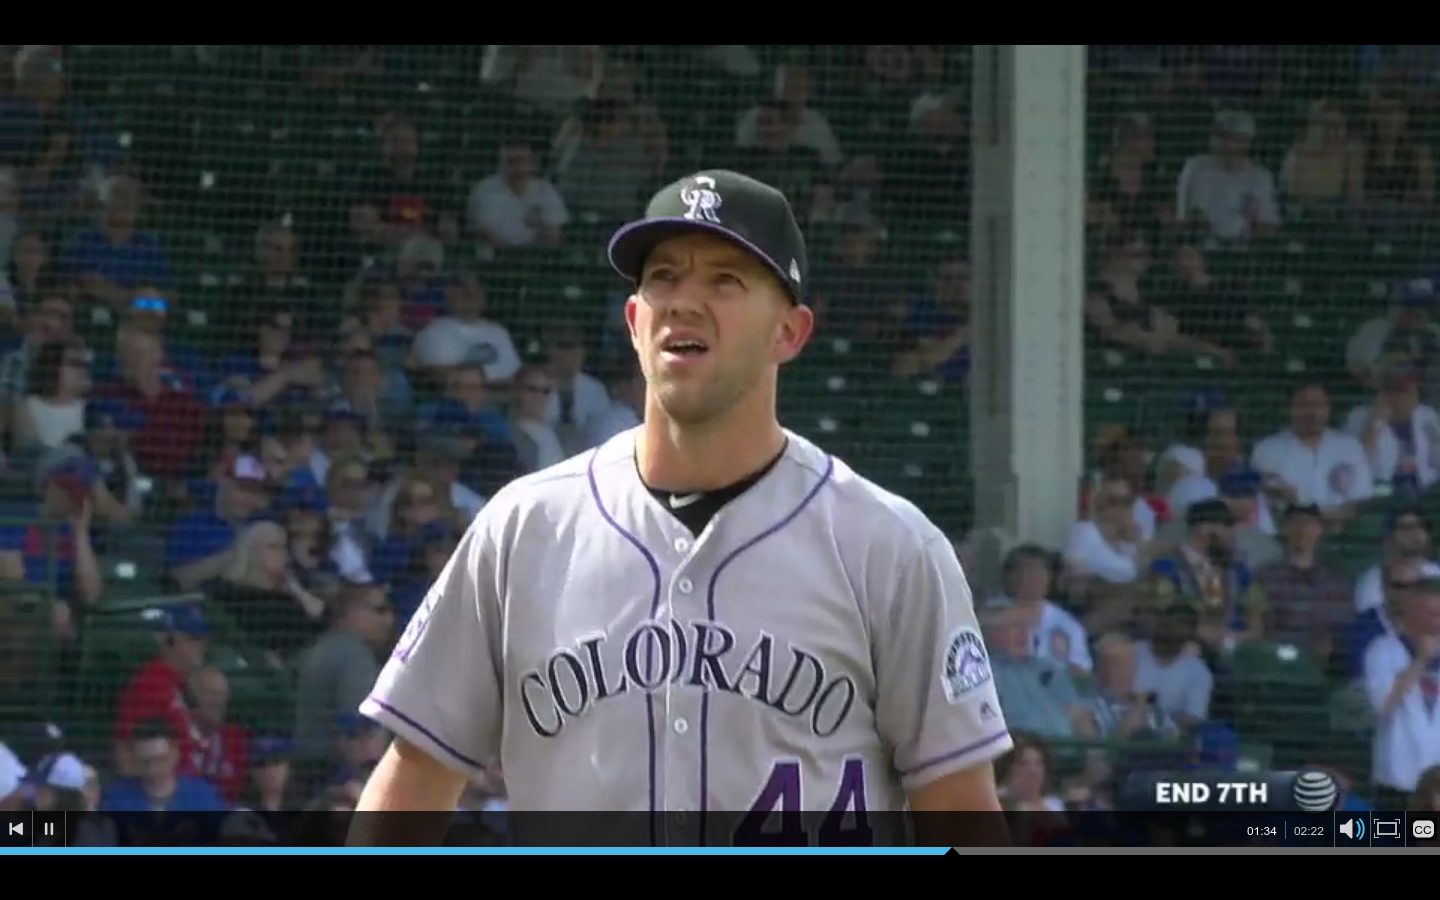baseball player: (325, 169, 1027, 814)
